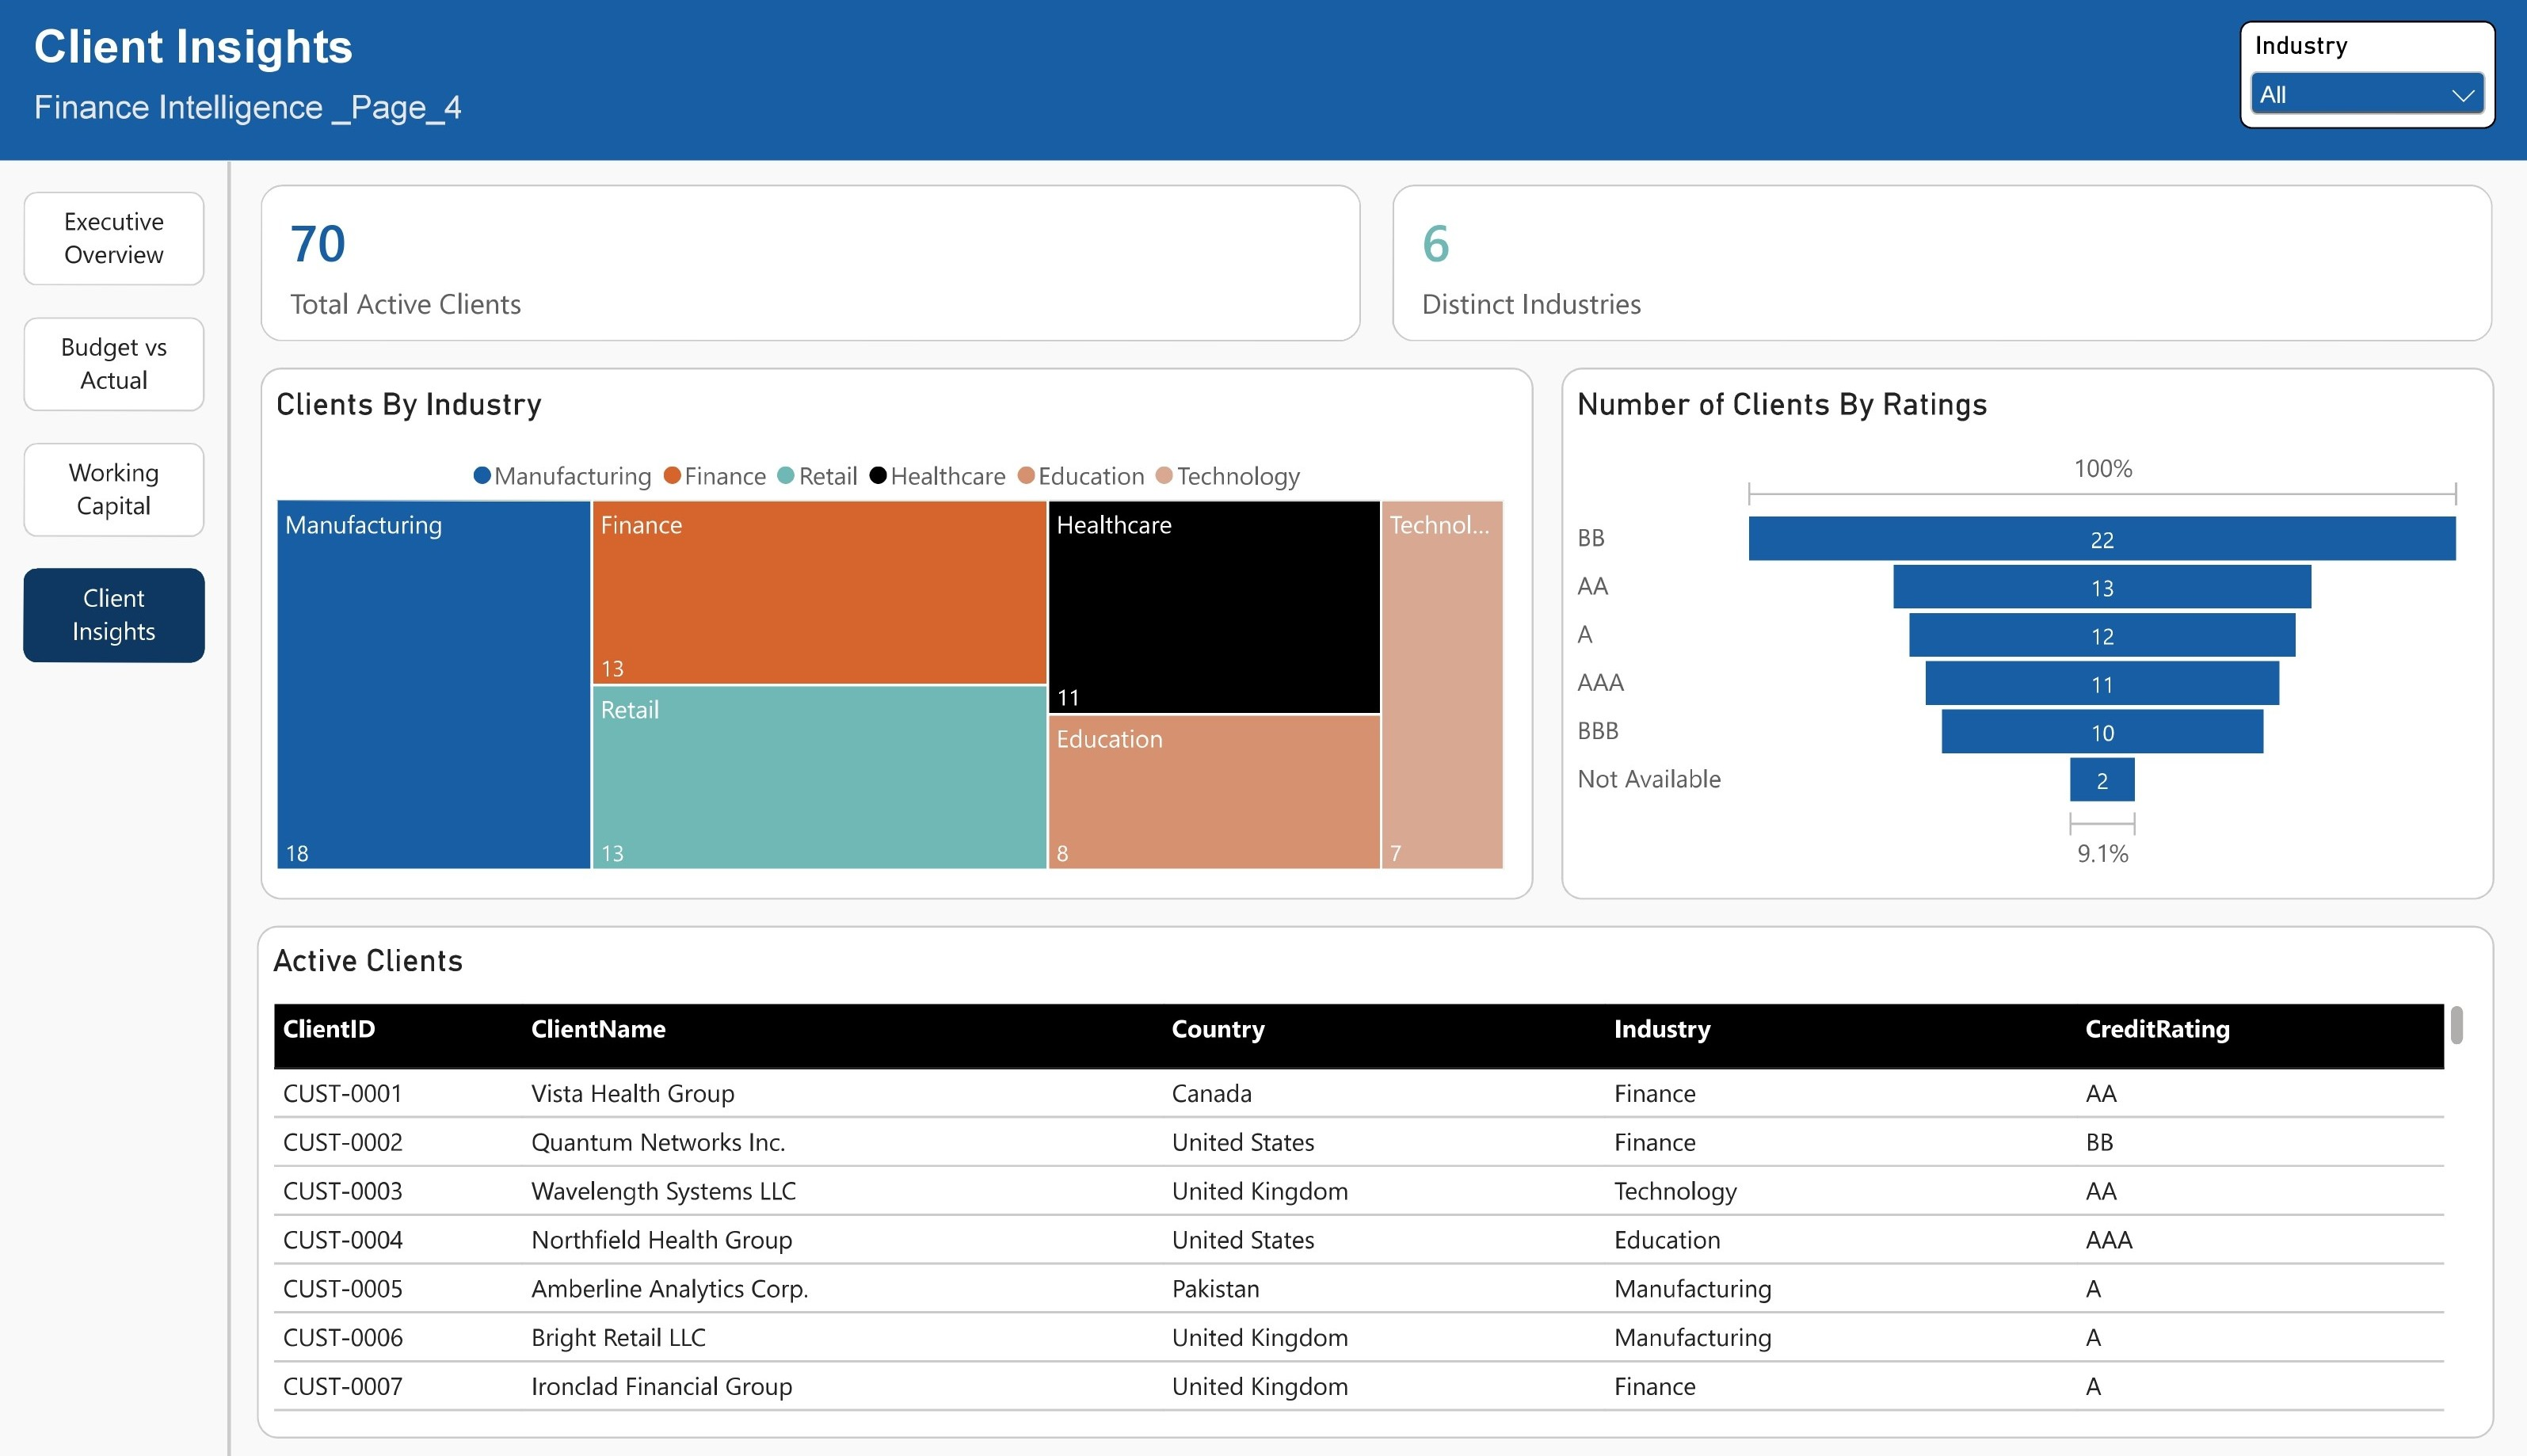

What the dashboard file says about the page in this screenshot:
{"tool":"powerbi","page":{"name":"Client Insights","canvas":[1450,847],"ordinal":3},"visuals":[{"type":"shape","box":[0,-2,1450,98],"z":0},{"type":"waterfallChart","fields":{"Category":["PnL_Lines.LineItem"],"Y":["_Measures.PnL Value"]},"box":[380,888.3,295,191.7],"z":1000},{"type":"textbox","box":[19.6,16.1,544.6,48.2],"z":3000},{"type":"textbox","box":[19.6,55.4,430.4,42.9],"z":4000},{"type":"slicer","fields":{"Values":["Dim_Customer.Industry"]},"box":[1284.7,16.5,146.8,61.3],"z":5000},{"type":"cardVisual","fields":{"Data":["Count(Dim_Customer.CustomerID)","Count(Dim_Customer.Industry)"]},"box":[149.8,110.4,1281.7,90],"z":7000},{"type":"treemap","title":"Clients By Industry","fields":{"Group":["Dim_Customer.Industry"],"Values":["CountNonNull(Dim_Customer.CustomerID)"]},"box":[149.8,215.4,730,305],"z":10000},{"type":"tableEx","title":"Active Clients","fields":{"Values":["Dim_Customer.CustomerID","Dim_Customer.CustomerName","Dim_Customer.Country","Dim_Customer.Industry","Dim_Customer.CreditRating"]},"box":[148.2,535.4,1283.3,293.3],"z":10001},{"type":"funnel","title":"Number of Clients By Ratings","fields":{"Category":["Dim_Customer.CreditRating"],"Y":["CountNonNull(Dim_Customer.CustomerID)"]},"box":[896.5,215.4,535,305],"z":10002},{"type":"pageNavigator","box":[13.8,114.3,104.3,270],"z":10003},{"type":"shape","box":[117.4,96.6,30,750.4],"z":10004}]}

Visuals, with their boxes in screenshot pixels (x1, y1, x2, y2), scaled from the page's 1450x847 canvas onto the 2527x1456 screenshot:
shape: 0, 0, 2526, 165
textbox: 34, 28, 983, 111
textbox: 34, 95, 784, 169
slicer - Dim_Customer.Industry: 2239, 29, 2495, 134
cardVisual - Count(Dim_Customer.CustomerID) x Count(Dim_Customer.Industry): 261, 190, 2495, 345
"Clients By Industry" treemap: 261, 370, 1534, 894
"Active Clients" tableEx: 258, 920, 2495, 1424
"Number of Clients By Ratings" funnel: 1562, 370, 2495, 894
pageNavigator: 24, 196, 206, 661
shape: 204, 166, 257, 1455
